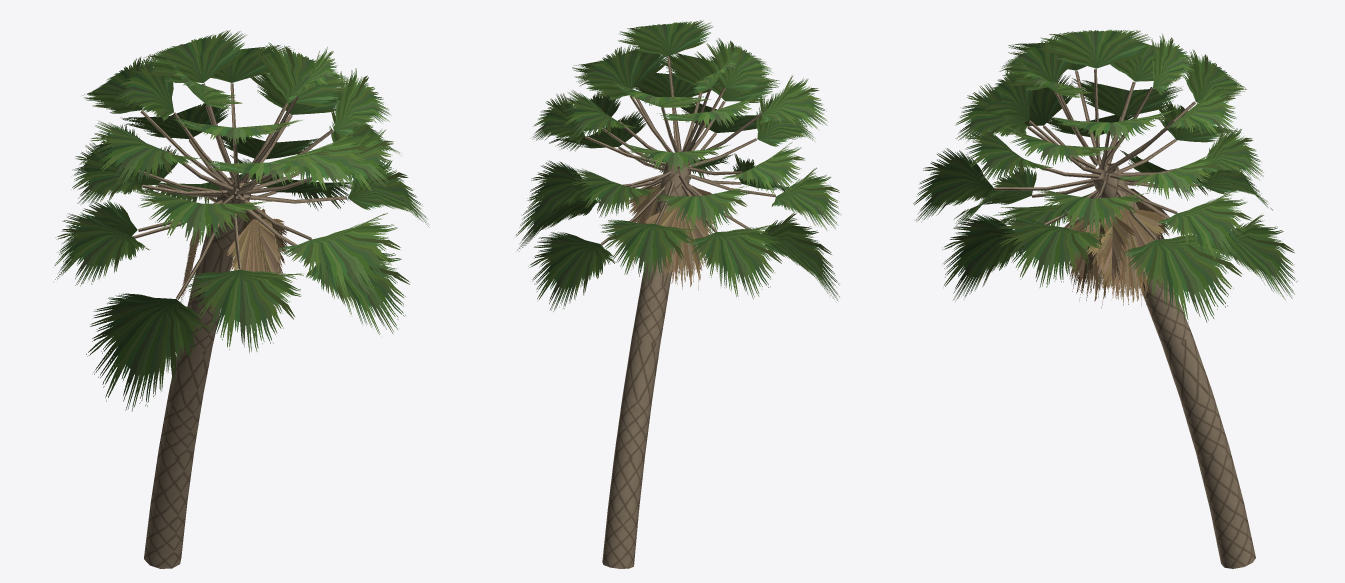
File: veg_sabal_palm_b.fbx
The picture shows the model from 3 angles, left to right: view 1: azimuth 30°, elevation 25°; view 2: azimuth 150°, elevation 25°; view 3: azimuth 270°, elevation 25°; orthographic projection. The views are drawn at different scales.
Visible parts, largest first — view 1: veg_sabal_palm_b_LOD0; view 2: veg_sabal_palm_b_LOD0; view 3: veg_sabal_palm_b_LOD0.
Boxes of the visible parts, x1,y1,x2,y2 form: veg_sabal_palm_b_LOD0: (53, 30, 429, 568); veg_sabal_palm_b_LOD0: (515, 20, 841, 568); veg_sabal_palm_b_LOD0: (913, 29, 1297, 568).
Size of what is drawn, in the model's own units: 5.86 by 7.71 by 5.86.
Materials: 2 (2 with a texture image).
